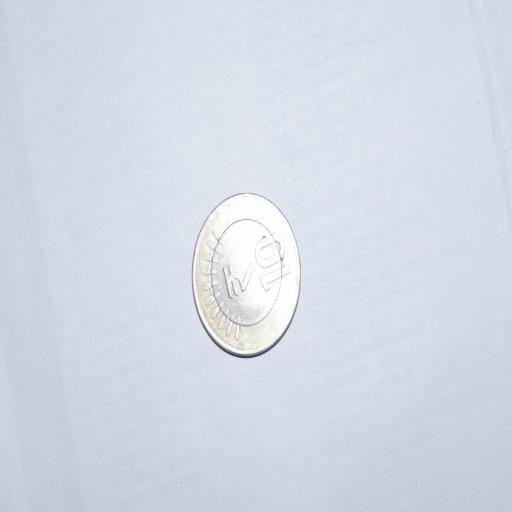rupee10: (192, 193, 301, 356)
